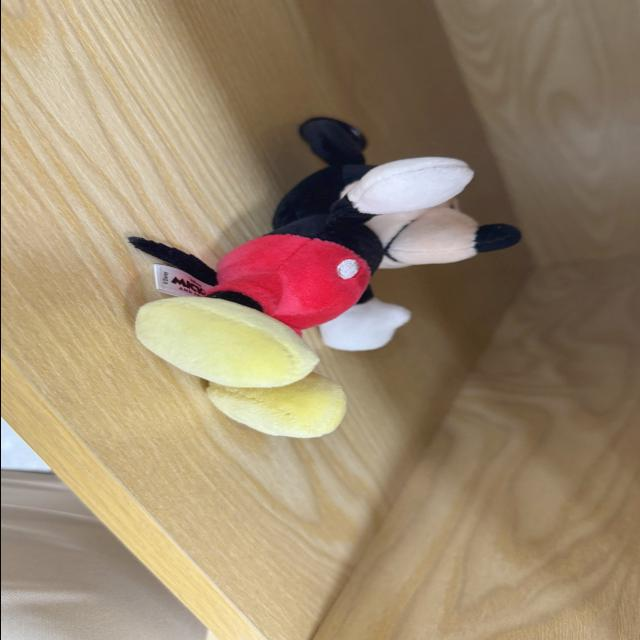mickey: (129, 118, 519, 437)
